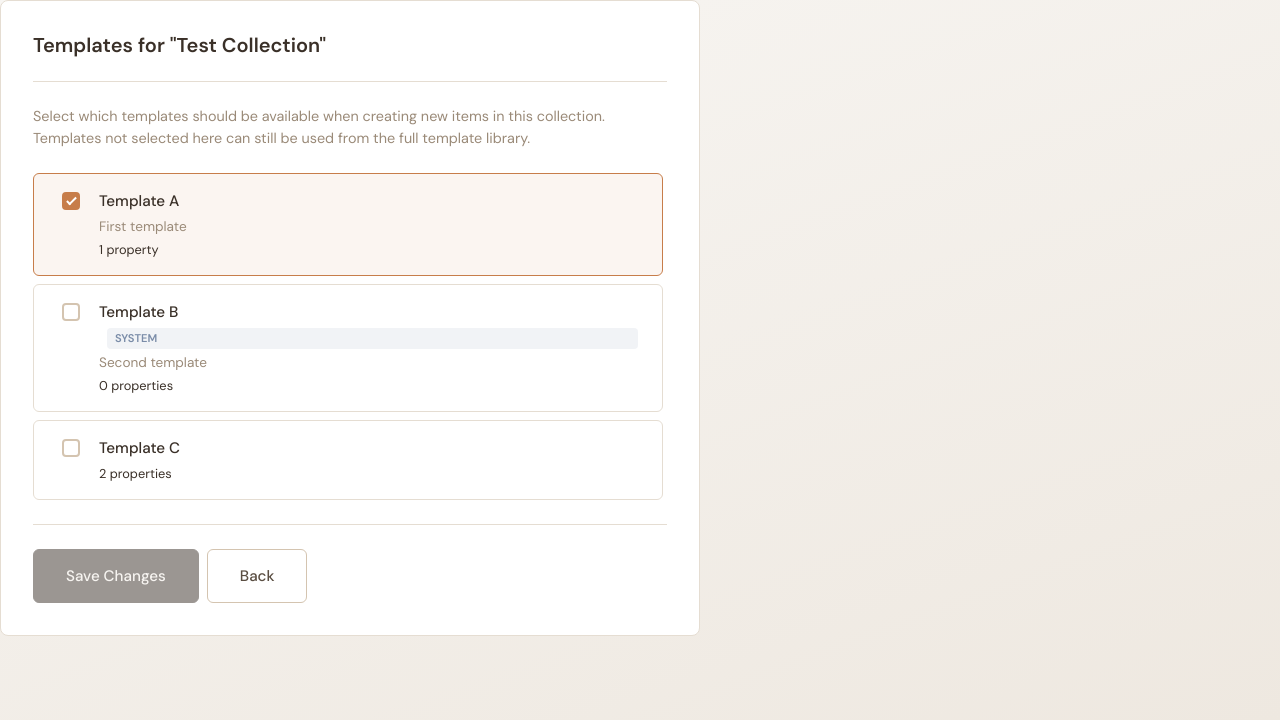
it: CollectionTemplateEditor › shows error when save fails
Expected: the text "Template B" is shown, x1=99 y1=302 x2=178 y2=322
Click the checkbox labelled "Template B System Second template 0 properties": (71, 312) x1=62 y1=303 x2=80 y2=321
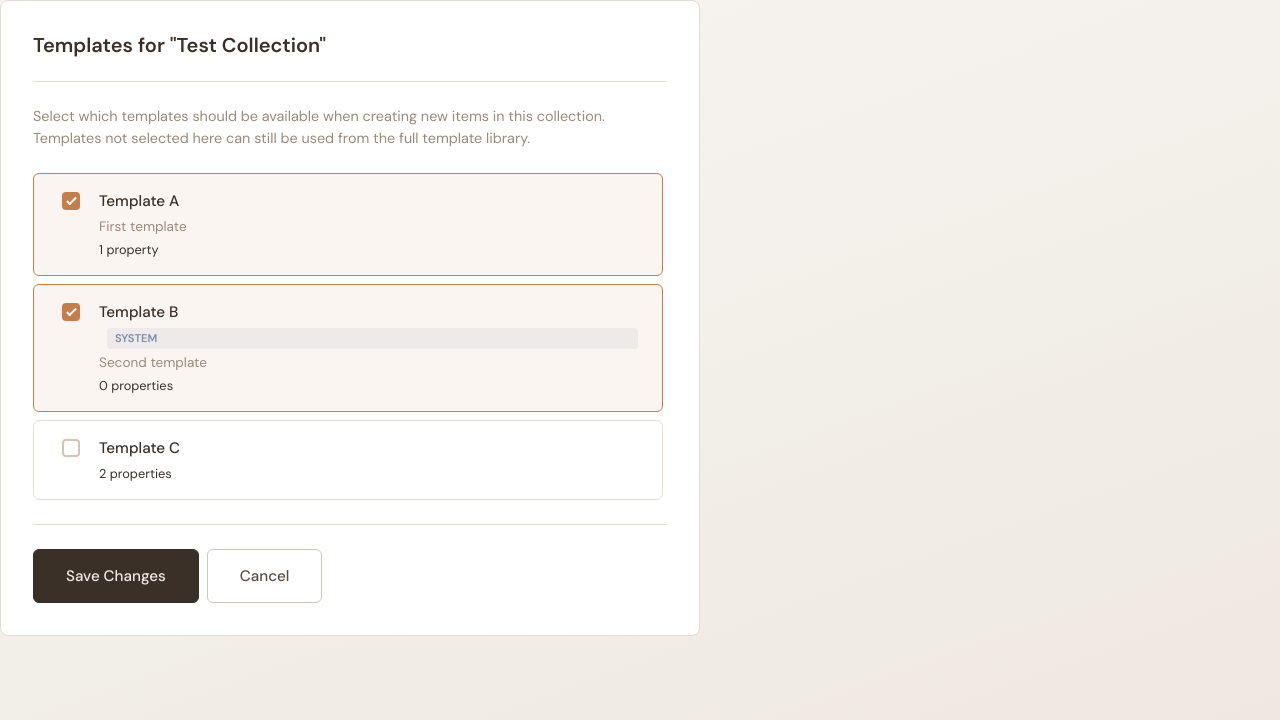
Click the button "Save Changes": (116, 576) x1=33 y1=549 x2=199 y2=603
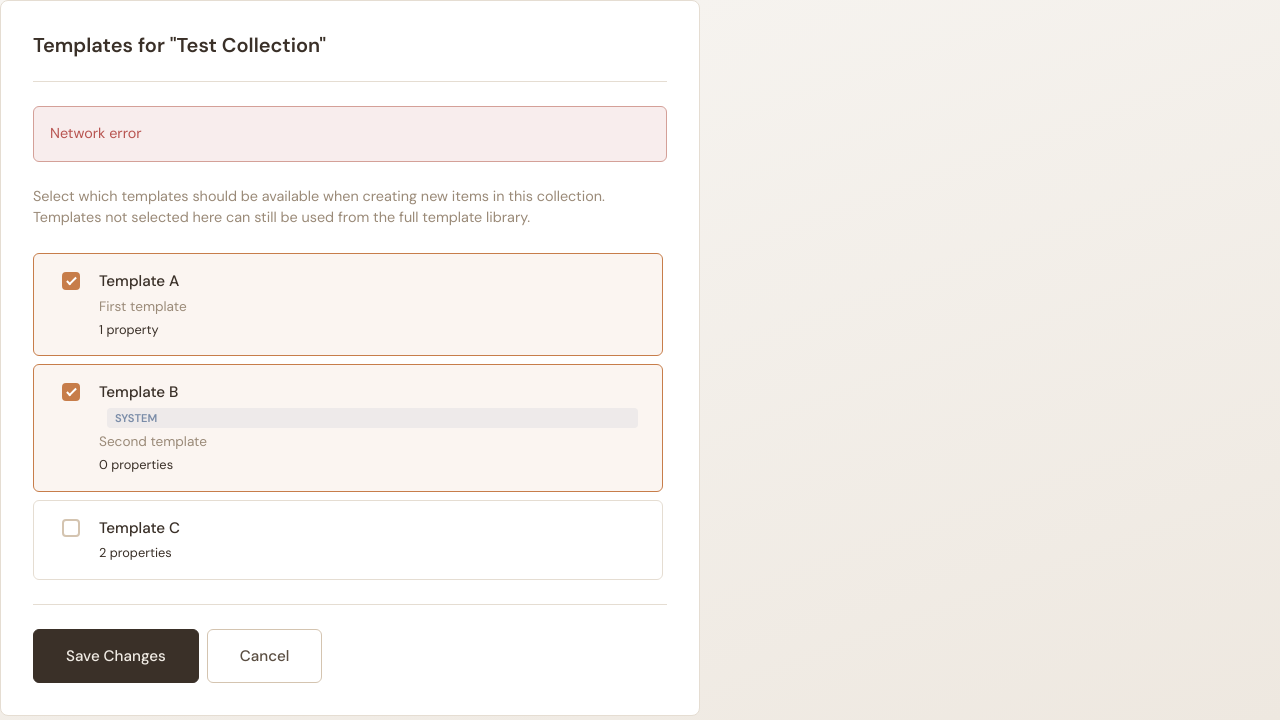
Expected: the text "Network error" is shown, x1=33 y1=106 x2=667 y2=162
